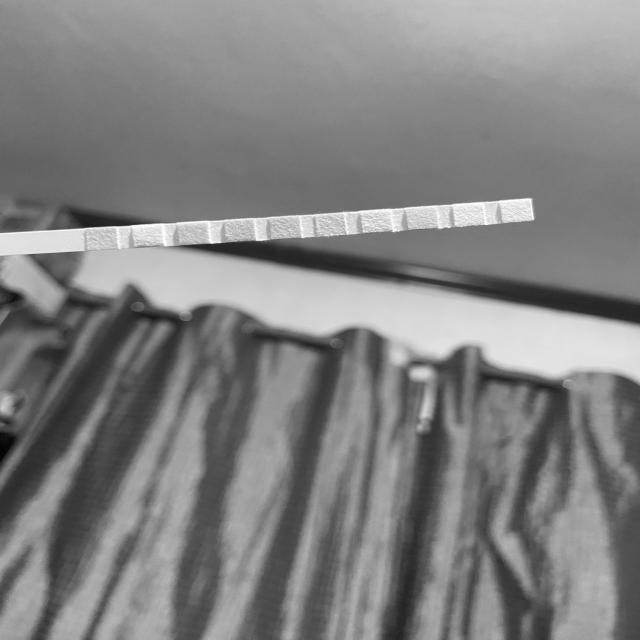Bilirubin: (133, 226, 162, 247)
Blood: (272, 218, 300, 237)
Glucose: (86, 229, 116, 249)
Ketone: (180, 224, 209, 244)
Leukocytes: (502, 201, 531, 221)
Nitrite: (455, 204, 483, 224)
Protein: (363, 211, 390, 232)
SpGravity: (226, 220, 254, 241)
Urobilinogen: (408, 208, 436, 228)
background: (0, 0, 640, 640)
pH: (316, 215, 344, 234)
strip: (1, 198, 535, 257)
